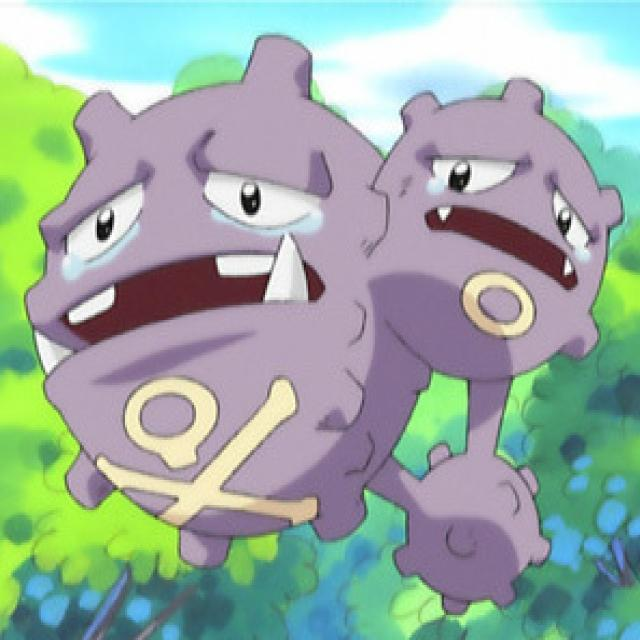Weezing: (41, 36, 614, 565)
